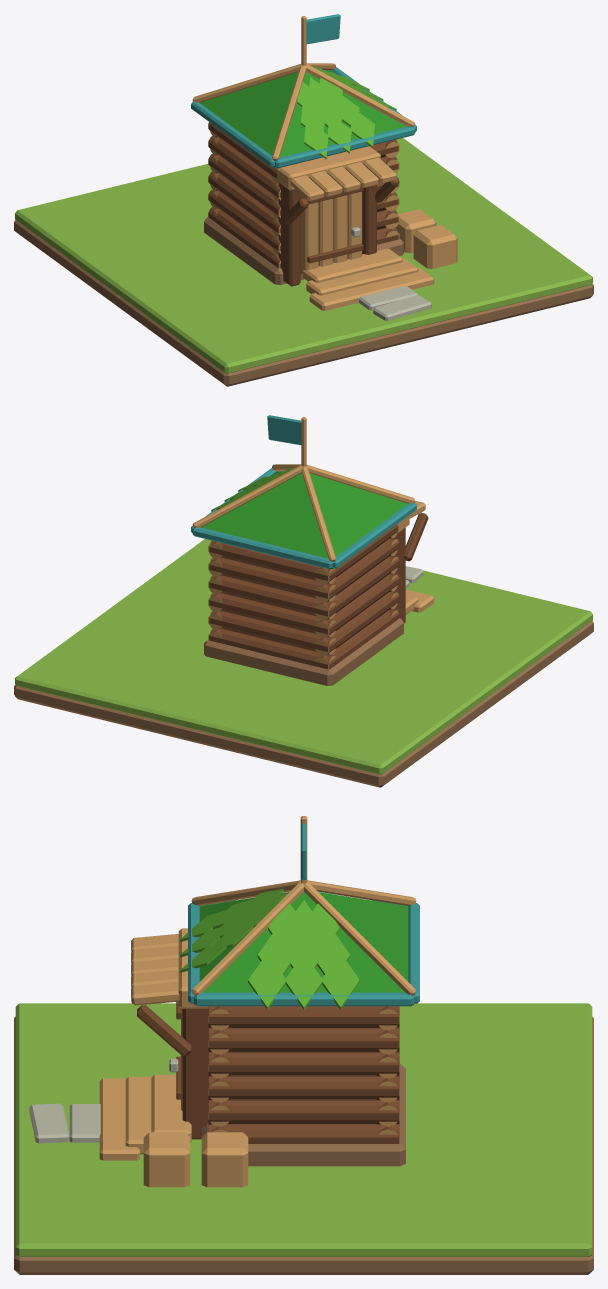
File: town_hall_l01_active_LOD0.glb
3 views of the same model, one above another, from view 1: azimuth 30°, elevation 25°; view 2: azimuth 150°, elevation 25°; view 3: azimuth 270°, elevation 25° (orthographic). The views are drawn at different scales.
Parts seen in each view (by area): view 1: town_hall_l01_active_grass_tile, town_hall_l01_active_earth_tile, town_hall_l01_active_hip_roof_shingle.011, town_hall_l01_active_foundation, town_hall_l01_active_door_jamb, town_hall_l01_active_entry_step.002, town_hall_l01_active_blueprint_crate, town_hall_l01_active_door_lintel, town_hall_l01_active_entry_step.001, town_hall_l01_active_entry_step, town_hall_l01_active_hip_roof_shingle.010, town_hall_l01_active_eave_trim (+29 smaller); view 2: town_hall_l01_active_grass_tile, town_hall_l01_active_earth_tile, town_hall_l01_active_foundation, town_hall_l01_active_hip_roof_shingle.008, town_hall_l01_active_hip_roof_shingle.011, town_hall_l01_active_wall_log.009, town_hall_l01_active_wall_log.005, town_hall_l01_active_wall_log.013, town_hall_l01_active_wall_log.017, town_hall_l01_active_hip_roof_shingle.007, town_hall_l01_active_wall_log.001, town_hall_l01_active_wall_log.021 (+16 smaller); view 3: town_hall_l01_active_grass_tile, town_hall_l01_active_earth_tile, town_hall_l01_active_foundation, town_hall_l01_active_wall_log.015, town_hall_l01_active_wall_log.011, town_hall_l01_active_wall_log.019, town_hall_l01_active_wall_log.007, town_hall_l01_active_wall_log.023, town_hall_l01_active_wall_log.003, town_hall_l01_active_door_jamb.001, town_hall_l01_active_eave_trim.001, town_hall_l01_active_blueprint_crate (+33 smaller).
Boxes of the visible parts, x1,y1,x2,y2 form: town_hall_l01_active_grass_tile: (15, 138, 592, 373); town_hall_l01_active_earth_tile: (14, 219, 593, 386); town_hall_l01_active_hip_roof_shingle.011: (200, 93, 280, 167); town_hall_l01_active_foundation: (204, 217, 403, 284); town_hall_l01_active_door_jamb: (278, 183, 300, 286); town_hall_l01_active_entry_step.002: (309, 267, 434, 310); town_hall_l01_active_blueprint_crate: (413, 225, 457, 268); town_hall_l01_active_door_lintel: (277, 146, 380, 190); town_hall_l01_active_entry_step.001: (306, 258, 418, 295); town_hall_l01_active_entry_step: (303, 248, 402, 282); town_hall_l01_active_hip_roof_shingle.010: (231, 82, 289, 129); town_hall_l01_active_eave_trim: (275, 126, 415, 168); town_hall_l01_active_grass_tile: (15, 539, 592, 774); town_hall_l01_active_earth_tile: (14, 620, 593, 787); town_hall_l01_active_foundation: (204, 618, 403, 685); town_hall_l01_active_hip_roof_shingle.008: (201, 511, 332, 568); town_hall_l01_active_hip_roof_shingle.011: (327, 494, 407, 568); town_hall_l01_active_wall_log.009: (209, 593, 335, 636); town_hall_l01_active_wall_log.005: (209, 610, 335, 654); town_hall_l01_active_wall_log.013: (209, 575, 335, 619); town_hall_l01_active_wall_log.017: (209, 557, 335, 601); town_hall_l01_active_hip_roof_shingle.007: (231, 491, 320, 532); town_hall_l01_active_wall_log.001: (209, 628, 335, 669); town_hall_l01_active_wall_log.021: (209, 540, 335, 583); town_hall_l01_active_grass_tile: (15, 1003, 592, 1256); town_hall_l01_active_earth_tile: (14, 1017, 593, 1274); town_hall_l01_active_foundation: (202, 1063, 405, 1166); town_hall_l01_active_wall_log.015: (208, 1052, 399, 1075); town_hall_l01_active_wall_log.011: (208, 1076, 399, 1099); town_hall_l01_active_wall_log.019: (208, 1028, 399, 1051); town_hall_l01_active_wall_log.007: (208, 1100, 399, 1123); town_hall_l01_active_wall_log.023: (208, 1006, 399, 1027); town_hall_l01_active_wall_log.003: (208, 1124, 399, 1143); town_hall_l01_active_door_jamb.001: (182, 1009, 208, 1139); town_hall_l01_active_eave_trim.001: (194, 992, 413, 1006); town_hall_l01_active_blueprint_crate: (143, 1132, 190, 1187).
Bounding box in the file's own units: 3.6 × 2.32 × 3.6.
